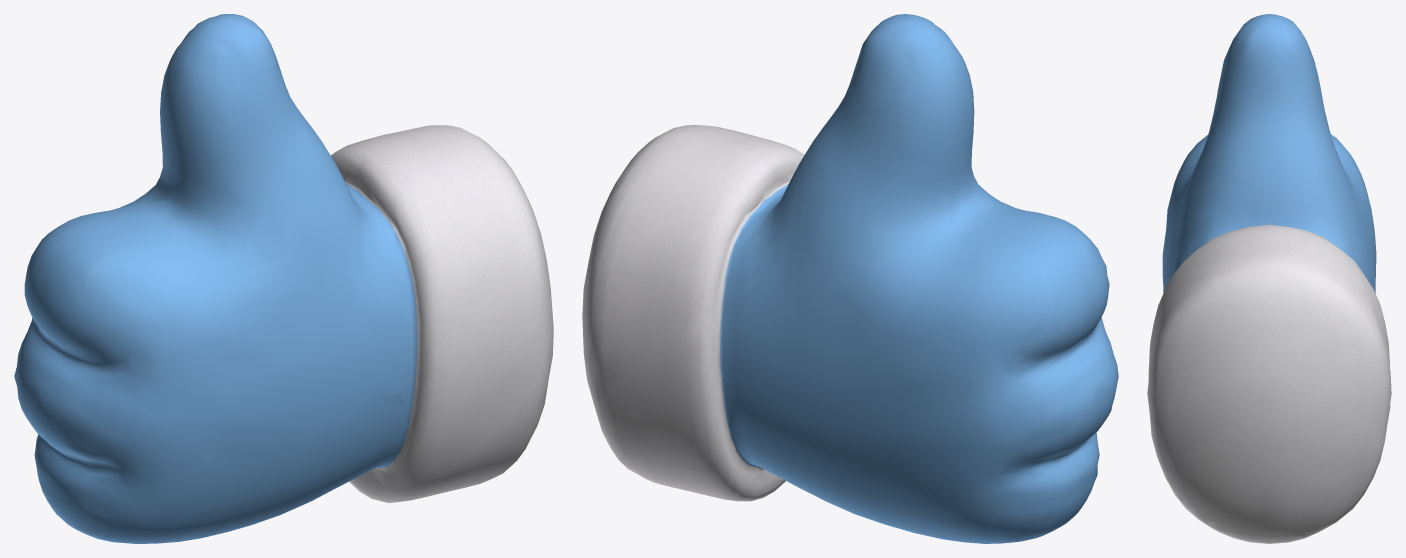
File: like_hand.glb
The picture shows the model from 3 angles, left to right: view 1: azimuth 30°, elevation 25°; view 2: azimuth 150°, elevation 25°; view 3: azimuth 270°, elevation 25°; orthographic projection. The views are drawn at different scales.
Bounding box in the file's own units: 0.9565 × 0.9502 × 0.4858.
Materials: 1 (1 with a texture image).
